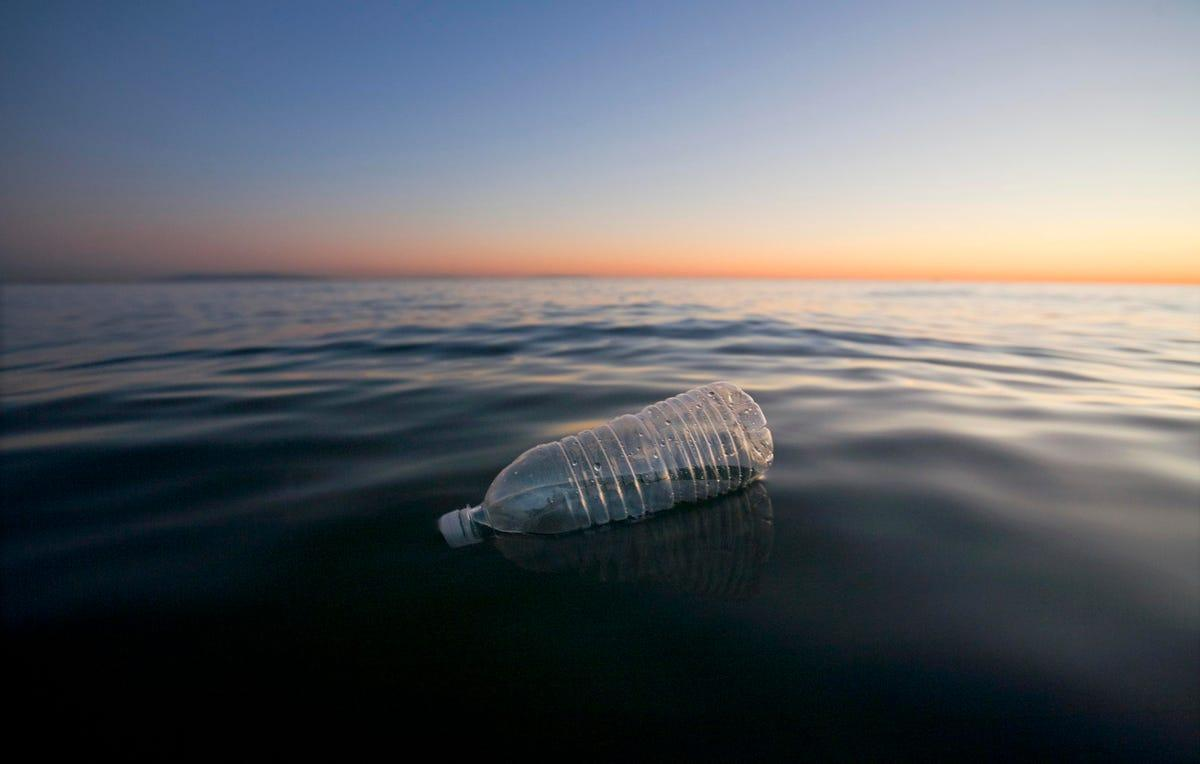bottle: (421, 362, 784, 562)
